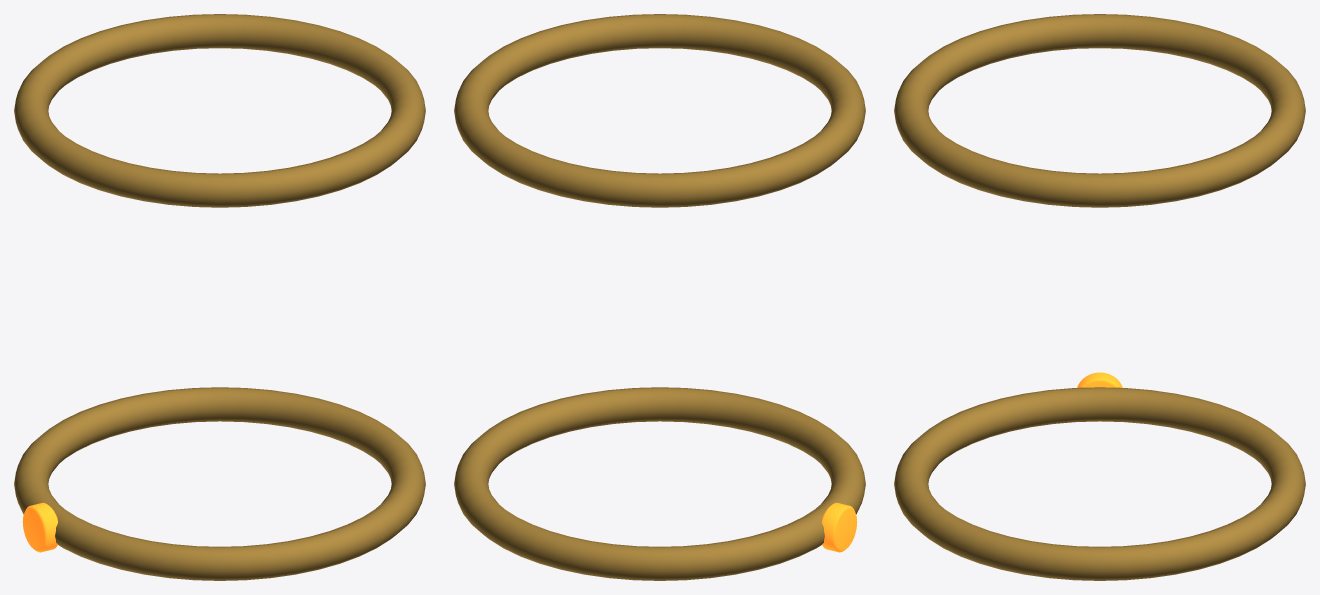
The model's file is tower_overclock_potency_s2.glb.
The picture shows the model from 3 angles, left to right: view 1: azimuth 30°, elevation 25°; view 2: azimuth 150°, elevation 25°; view 3: azimuth 270°, elevation 25°; orthographic projection.
Visible parts, largest first — view 1: overclock_conductor1.98, overclock_conductor1.5, overclock_up_potency_l2_stud; view 2: overclock_conductor1.98, overclock_conductor1.5, overclock_up_potency_l2_stud; view 3: overclock_conductor1.5, overclock_conductor1.98, overclock_up_potency_l2_stud.
Part boxes in pixels (<box>): overclock_conductor1.98: <box>14,14,425,207</box>; overclock_conductor1.5: <box>14,387,425,580</box>; overclock_up_potency_l2_stud: <box>22,502,57,552</box>; overclock_conductor1.98: <box>454,14,865,207</box>; overclock_conductor1.5: <box>454,387,865,580</box>; overclock_up_potency_l2_stud: <box>822,502,857,552</box>; overclock_conductor1.5: <box>894,387,1305,580</box>; overclock_conductor1.98: <box>894,14,1305,207</box>; overclock_up_potency_l2_stud: <box>1077,372,1122,421</box>.
Size of the model in its own units: 0.491 by 0.528 by 0.48.
